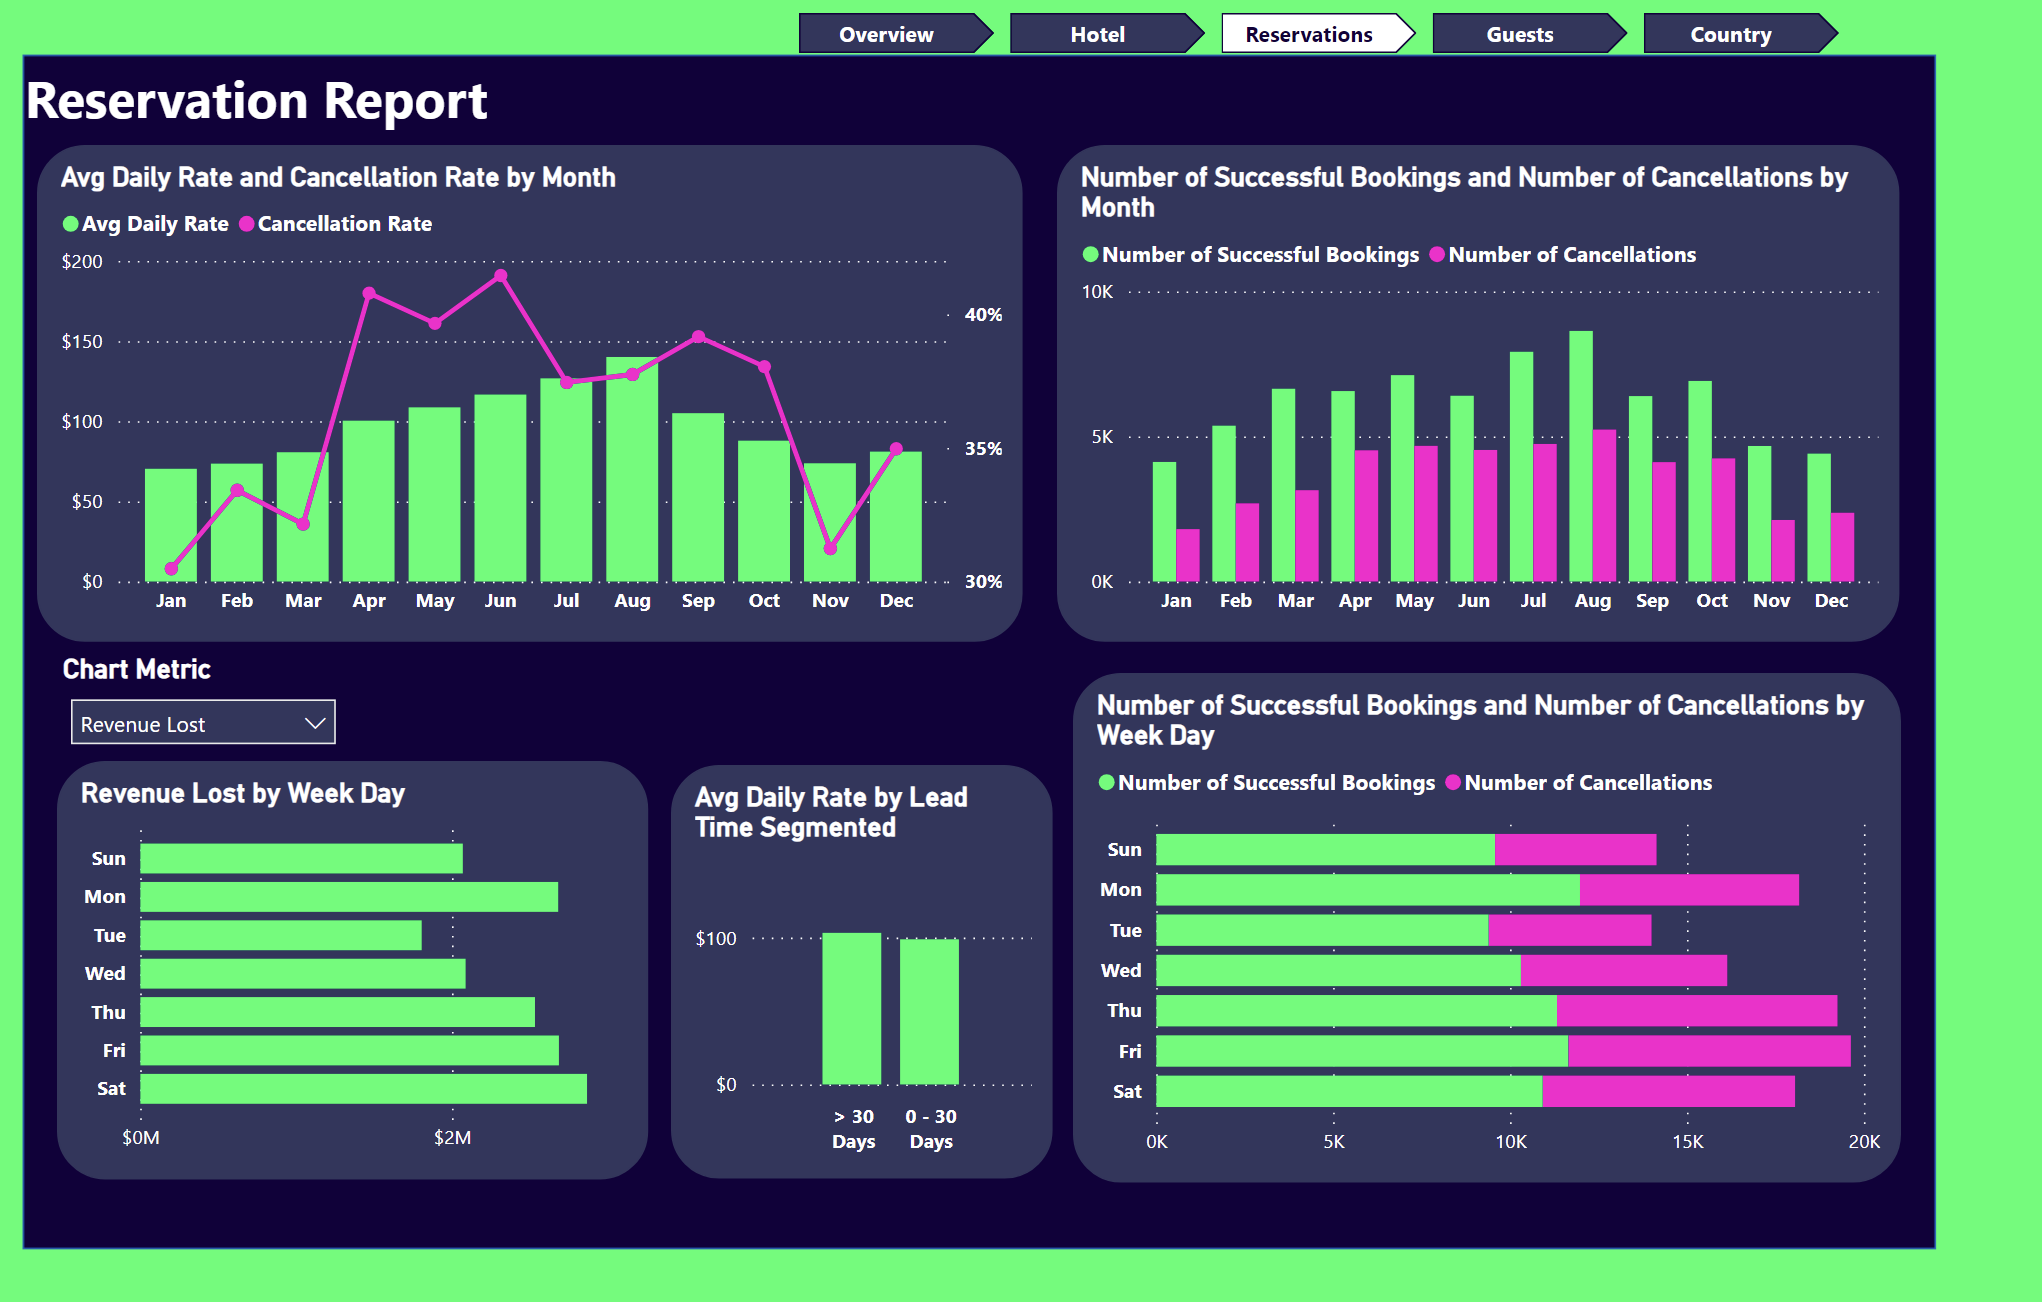

Layout of this report page (visuals, bound fields, positions):
{"tool":"powerbi","page":{"name":"Reservations","canvas":[1280,820],"ordinal":2},"visuals":[{"type":"pageNavigator","box":[500,10,650,25],"z":0},{"type":"clusteredColumnChart","title":"Avg Daily Rate by Lead Time Segmented","fields":{"Category":["hotel_bookings.Lead Tİme Segmented"],"Y":["All Measures.avg rate"]},"box":[420,480,238.7,258.7],"z":1000},{"type":"clusteredColumnChart","fields":{"Y":["Measure.# of bookings","Measure.# of cancellations"],"Category":["Calendar.Month"]},"box":[661.3,92,526.7,310.7],"z":2000},{"type":"clusteredBarChart","fields":{"Y":["All Measures.Number of Cancellations"],"Category":["Calendar.Week Day"]},"box":[36,477.3,369.3,261.3],"z":4000},{"type":"lineClusteredColumnComboChart","fields":{"Category":["Calendar.Month"],"Y":["All Measures.avg rate"],"Y2":["All Measures.cancellation rate"]},"box":[24,92,616,310.7],"z":5000},{"type":"barChart","fields":{"Category":["Calendar.Week Day"],"Y":["All Measures.# of bookings","All Measures.# of cancellations"]},"box":[670.7,422.7,517.3,318.7],"z":7000},{"type":"textbox","box":[10.7,36,316,56],"z":8000},{"type":"slicer","title":"Chart Metric","fields":{"Values":["Parameter 5.Parameter 5"]},"box":[35.4,410.3,185.4,77.7],"z":9000}]}

Visuals, with their boxes in screenshot pixels (x1, y1, x2, y2), scaled from the page's 1280x820 canvas onto the 2042x1302 screenshot:
pageNavigator: x1=798 y1=16 x2=1835 y2=56
"Avg Daily Rate by Lead Time Segmented" clusteredColumnChart: x1=670 y1=762 x2=1051 y2=1173
clusteredColumnChart - Measure.# of bookings x Measure.# of cancellations: x1=1055 y1=146 x2=1895 y2=639
clusteredBarChart - All Measures.Number of Cancellations x Calendar.Week Day: x1=57 y1=758 x2=647 y2=1173
lineClusteredColumnComboChart - Calendar.Month x All Measures.avg rate: x1=38 y1=146 x2=1021 y2=639
barChart - Calendar.Week Day x All Measures.# of bookings: x1=1070 y1=671 x2=1895 y2=1177
textbox: x1=17 y1=57 x2=521 y2=146
"Chart Metric" slicer: x1=56 y1=651 x2=352 y2=775
